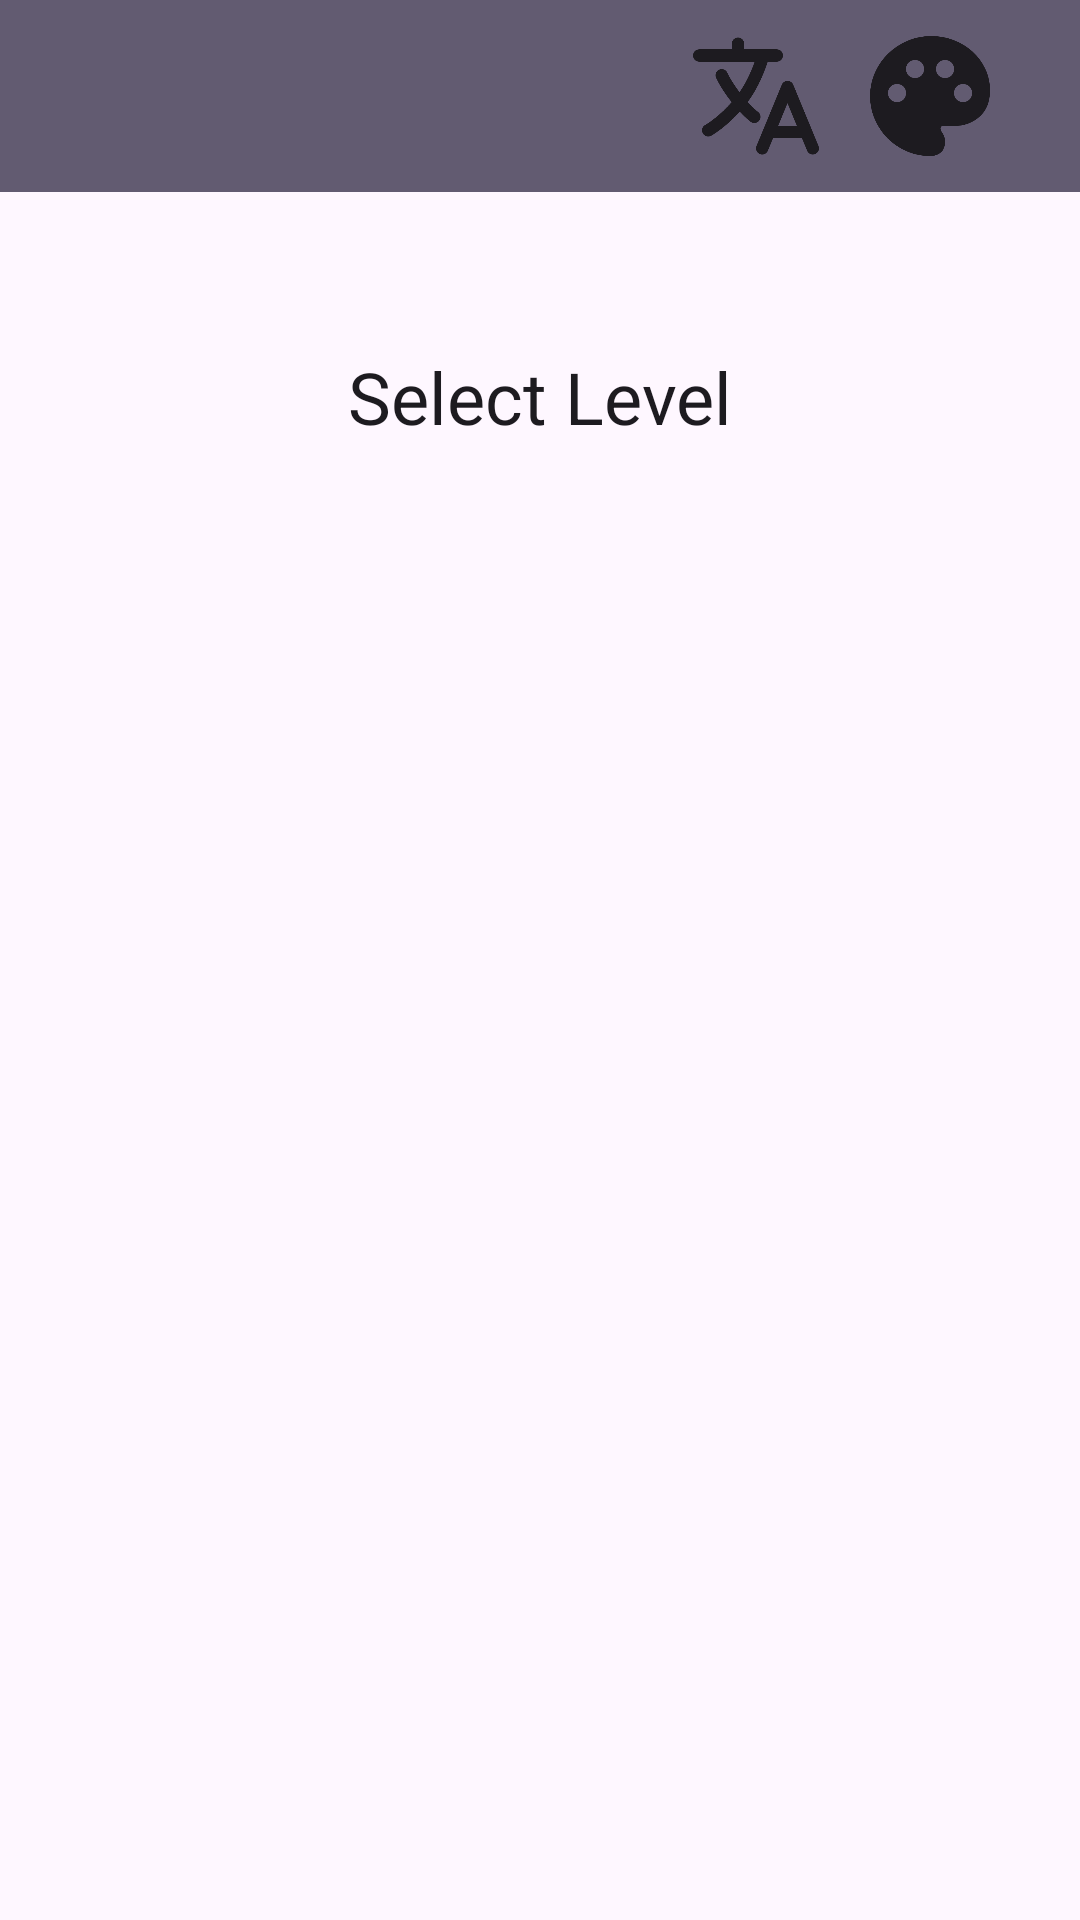

Point at icon controls on the screen. Image size 1080×1920, points as (x=x, y=y).
Toggle Language: (x=756, y=96)
